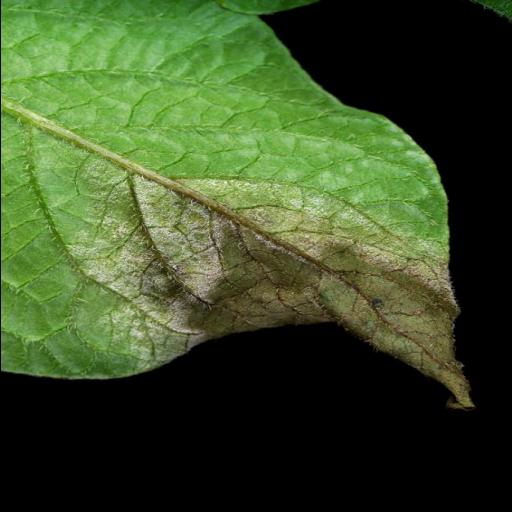Late Blight: (0, 0, 478, 413)
